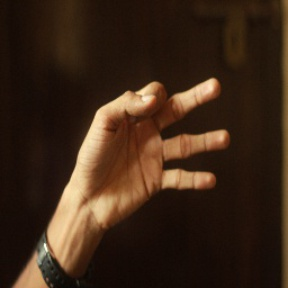K: (69, 77, 236, 215)
